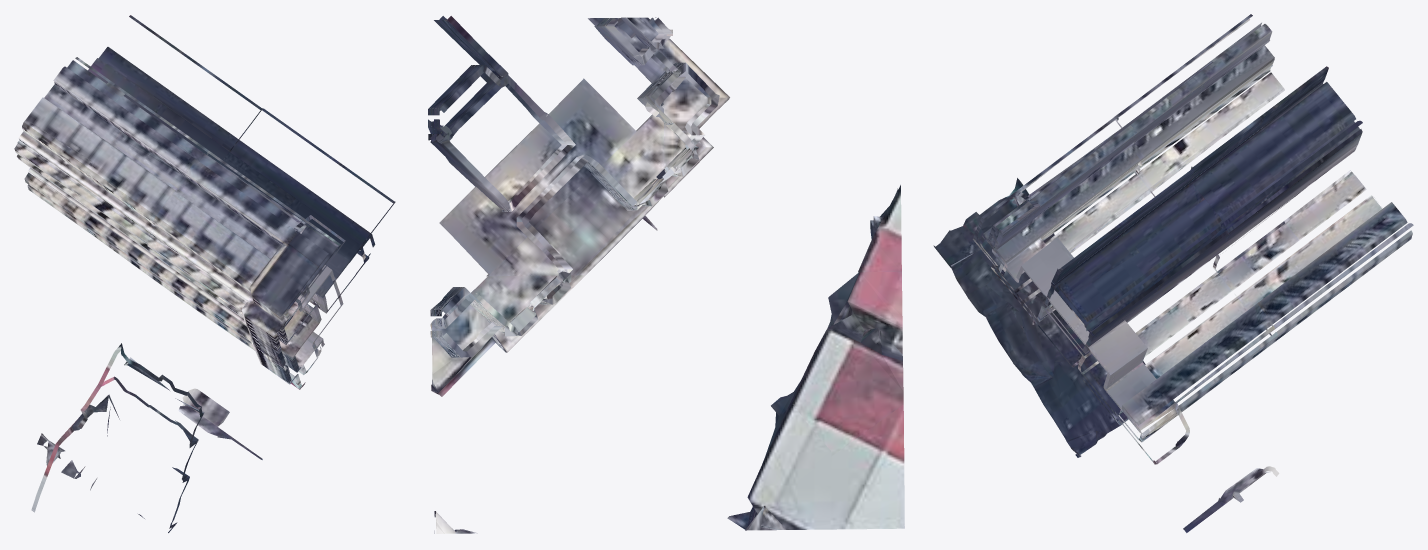
3 renders of one model, left to right at view 1: azimuth 30°, elevation 25°; view 2: azimuth 150°, elevation 25°; view 3: azimuth 270°, elevation 25°, orthographic. The views are drawn at different scales.
Size of the model in its own units: 43.28 by 50.37 by 50.27.
2 materials, 2 textured.
